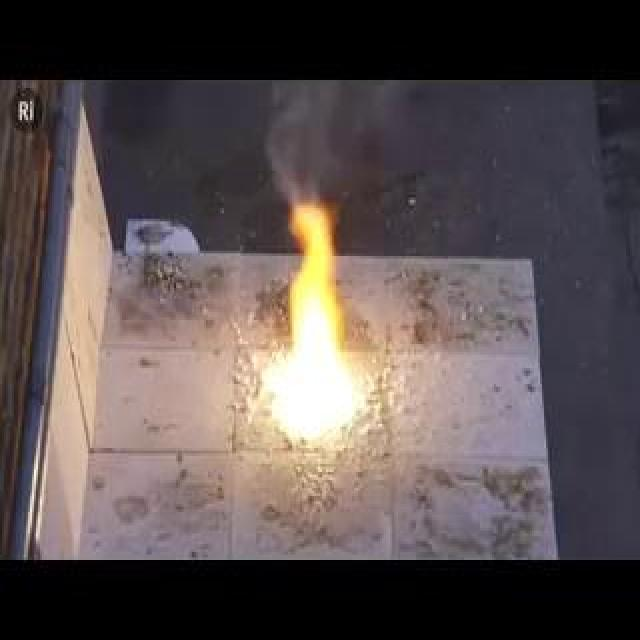Fire: (204, 182, 372, 469)
